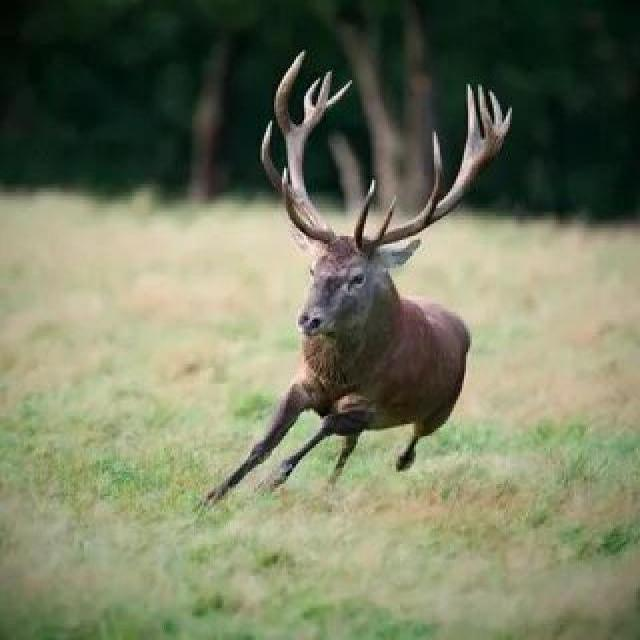deer: (180, 71, 526, 556)
